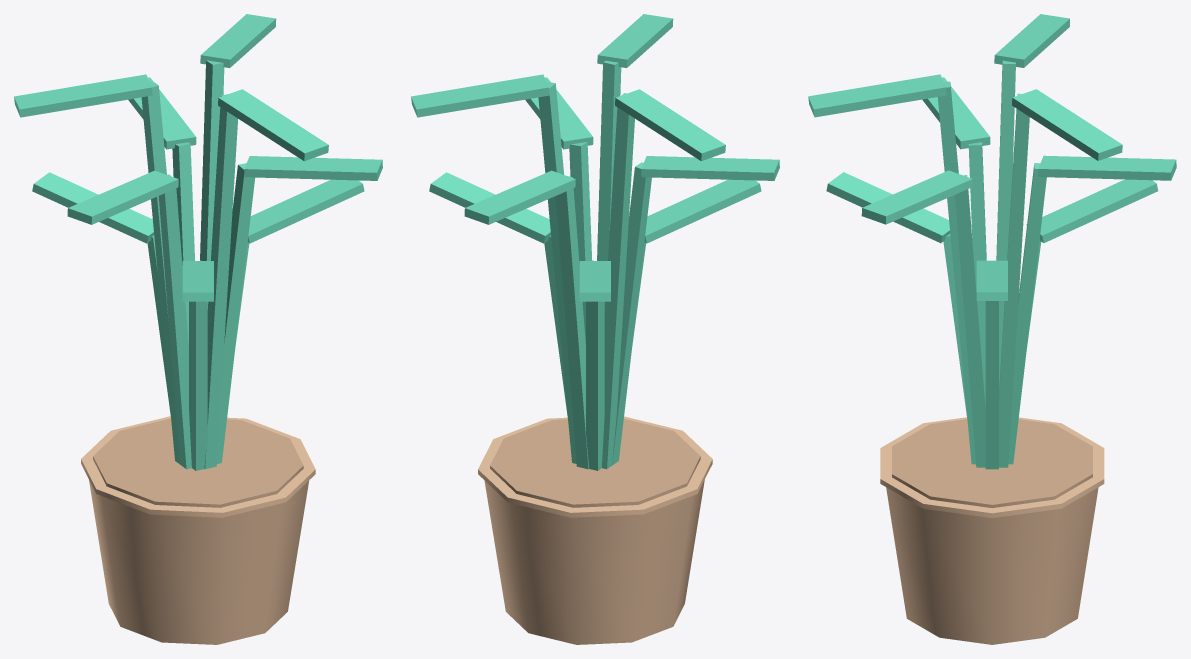
The model's file is plantPalmAreca.glb.
3 renders of one model, left to right at view 1: azimuth 30°, elevation 25°; view 2: azimuth 150°, elevation 25°; view 3: azimuth 270°, elevation 25°, orthographic.
Parts seen in each view (by area): view 1: plantPalmAreca; view 2: plantPalmAreca; view 3: plantPalmAreca.
Boxes of the visible parts, x1=… form: plantPalmAreca: x1=14, y1=14, x2=382, y2=644; plantPalmAreca: x1=411, y1=14, x2=779, y2=644; plantPalmAreca: x1=808, y1=14, x2=1176, y2=644.
Size of the model in its own units: 0.4017 by 0.65 by 0.4097.
